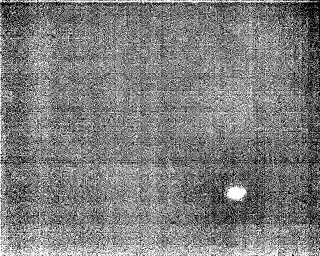AIRPLANE: (223, 181, 249, 204)
